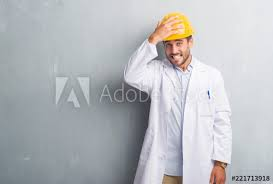Person_wearing_helmet: (153, 8, 199, 47)
